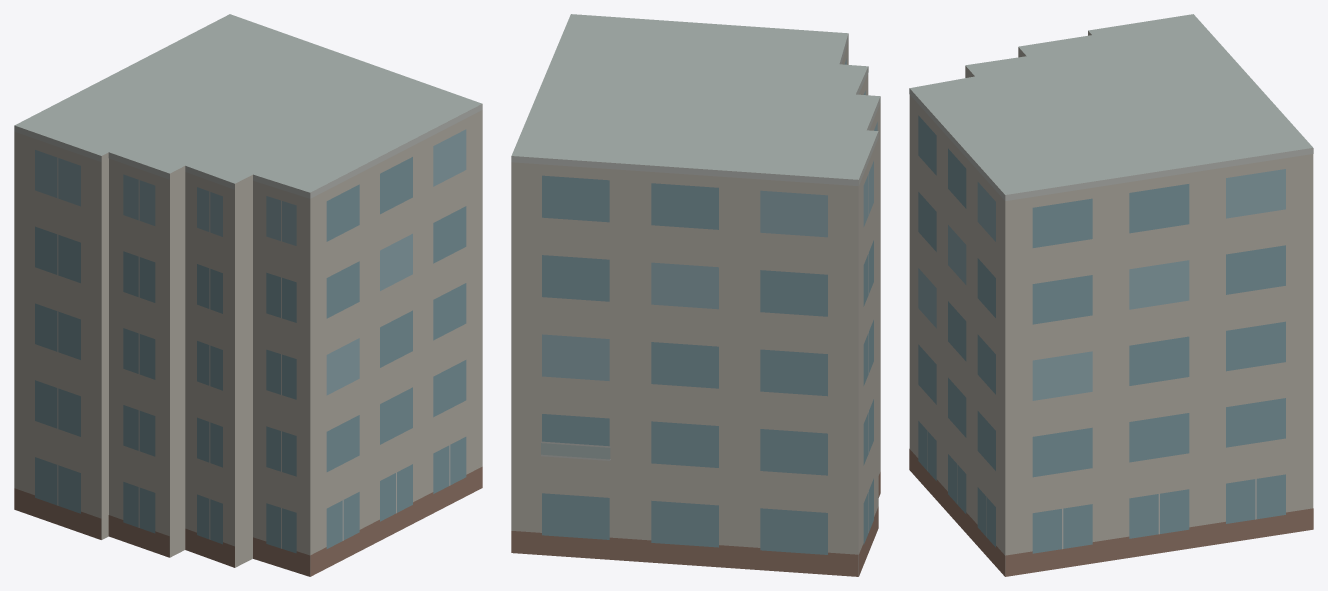
Rendered from survey-upis-32629614.glb.
3 renders of one model, left to right at view 1: azimuth 30°, elevation 25°; view 2: azimuth 150°, elevation 25°; view 3: azimuth 270°, elevation 25°, orthographic. The views are drawn at different scales.
Parts seen in each view (by area): view 1: survey-upis-32629614.tmp; view 2: survey-upis-32629614.tmp; view 3: survey-upis-32629614.tmp.
Part boxes in pixels (x1,y1,x2,y2): survey-upis-32629614.tmp: (14, 14, 482, 576); survey-upis-32629614.tmp: (511, 14, 880, 576); survey-upis-32629614.tmp: (909, 14, 1313, 576).
Size of the model in its own units: 15.52 by 15.25 by 14.63.
